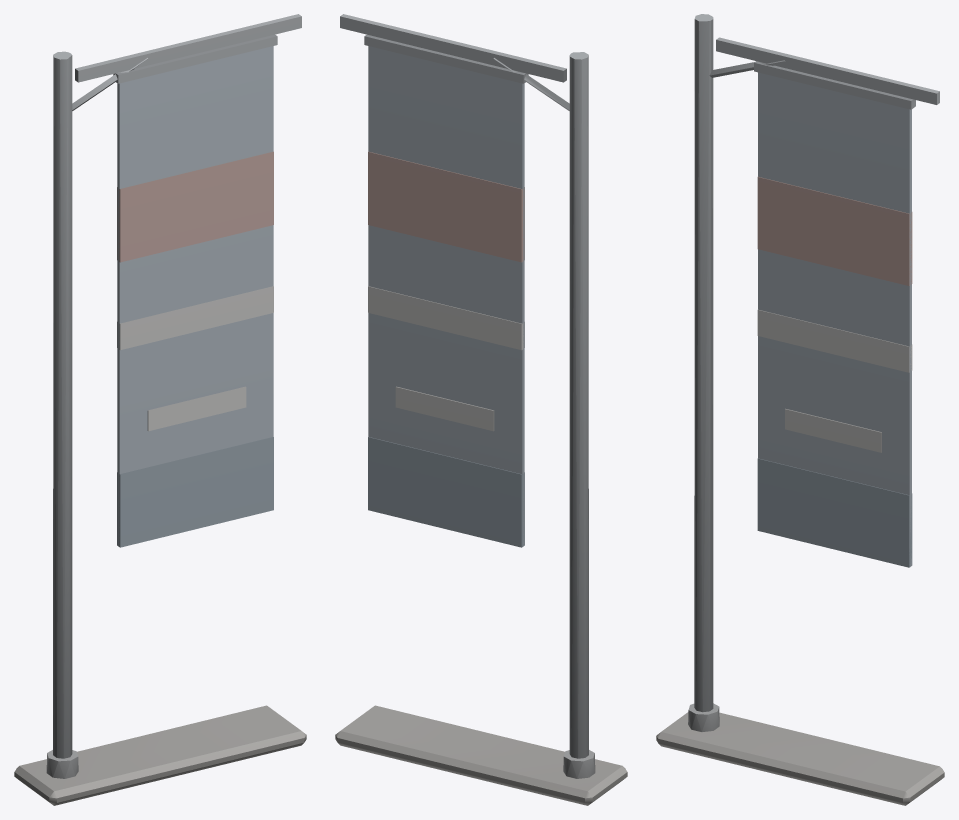
File: banner.lod1.glb
3 views of the same model, side by side, from view 1: azimuth 30°, elevation 25°; view 2: azimuth 150°, elevation 25°; view 3: azimuth 330°, elevation 25° (orthographic).
Size of the model in its own units: 1.92 by 5 by 0.5.
